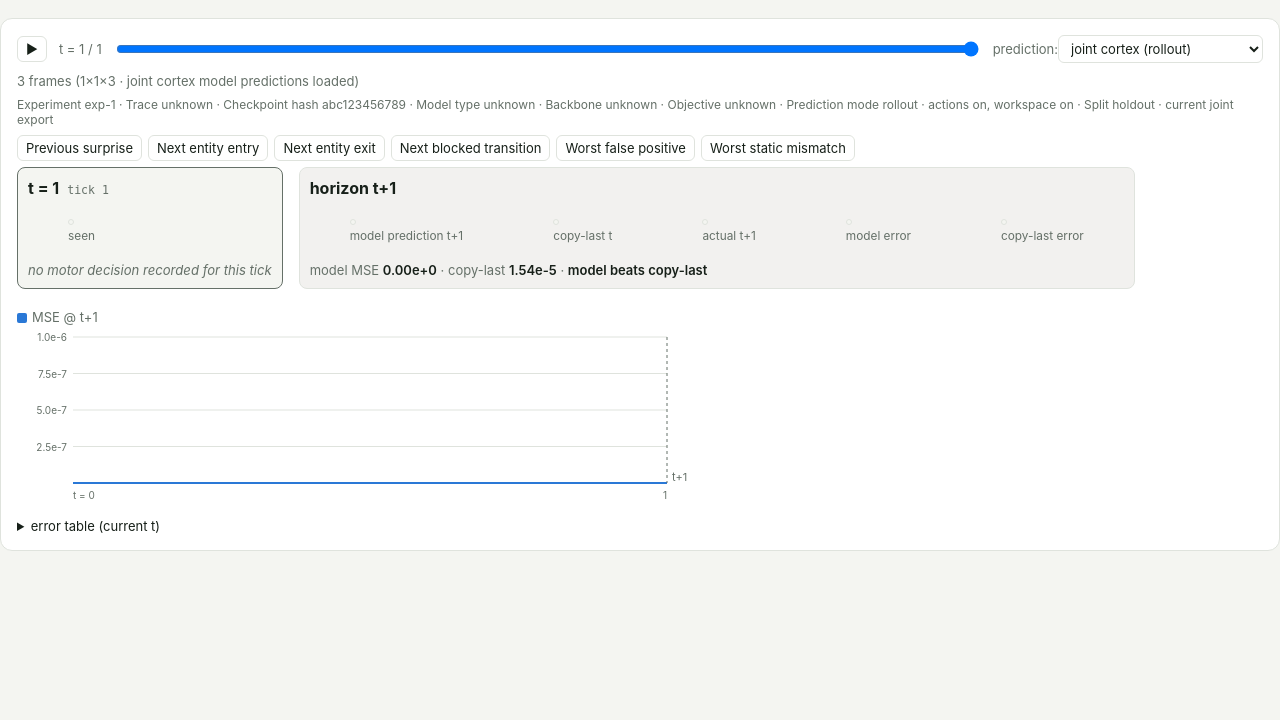
PixelHorizonViewer › offers a reference baseline option that reads a second run's own predictions, independent of the model's
Select "reference: champion-run-7" in the dropdown named "prediction source" at [1160, 49], box [1058,35,1263,63]
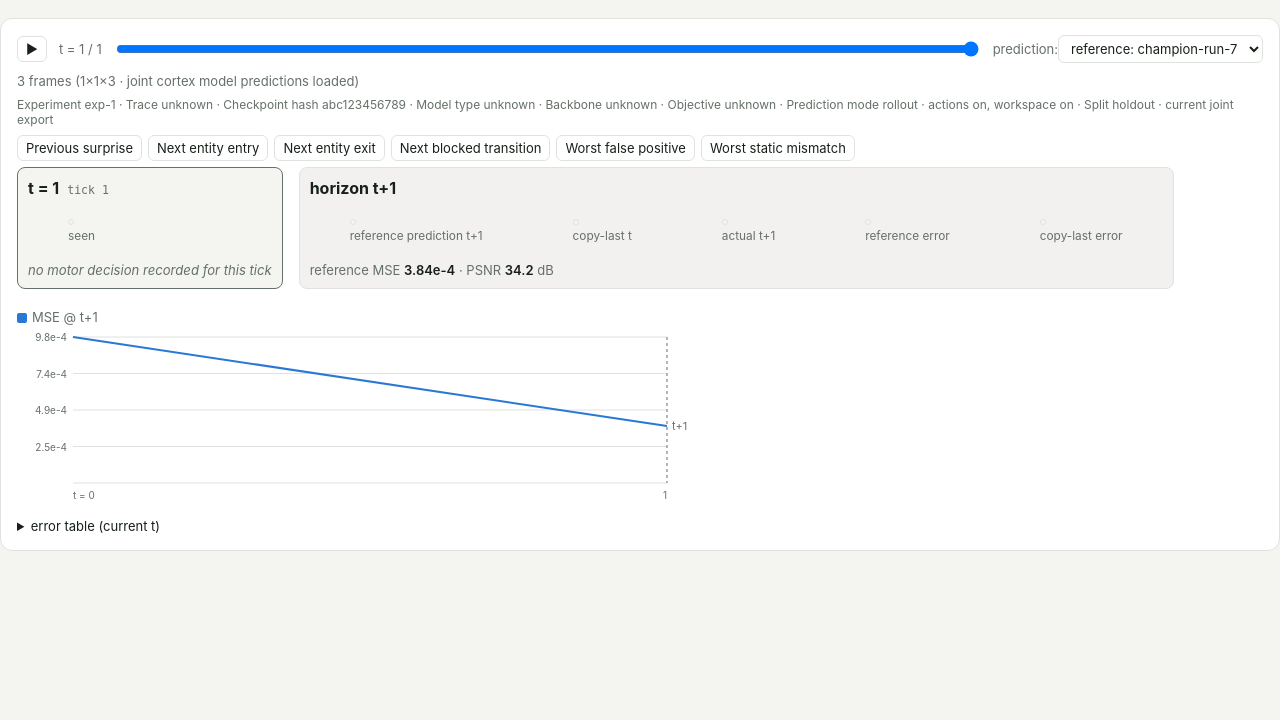
expect the text "reference prediction t+1" is shown: met, box [350,229,483,243]
